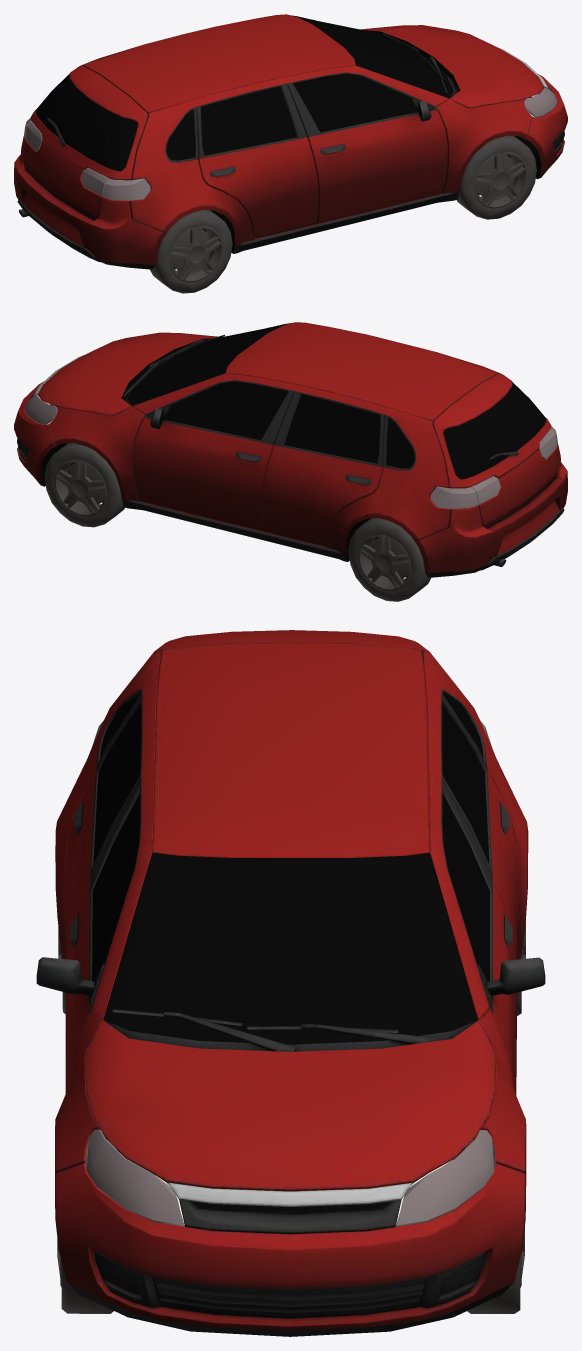
Rendered from pc-hatchback-red.lod0.glb.
3 renders of one model, top to bottom at view 1: azimuth 30°, elevation 25°; view 2: azimuth 150°, elevation 25°; view 3: azimuth 270°, elevation 25°, orthographic. The views are drawn at different scales.
Visible parts, largest first — view 1: Hatchback Body_Body_0, Hatchback Body_Glass_0; view 2: Hatchback Body_Body_0, Hatchback Body_Glass_0; view 3: Hatchback Body_Body_0, Hatchback Body_Glass_0.
Part boxes in pixels (<box>): Hatchback Body_Body_0: <box>14,14,567,269</box>; Hatchback Body_Glass_0: <box>24,16,557,293</box>; Hatchback Body_Body_0: <box>14,322,567,577</box>; Hatchback Body_Glass_0: <box>24,324,557,601</box>; Hatchback Body_Body_0: <box>36,630,545,1336</box>; Hatchback Body_Glass_0: <box>57,694,525,1313</box>.
Bounding box in the file's own units: 3.95 × 1.35 × 1.74.
2 materials, 1 textured.
